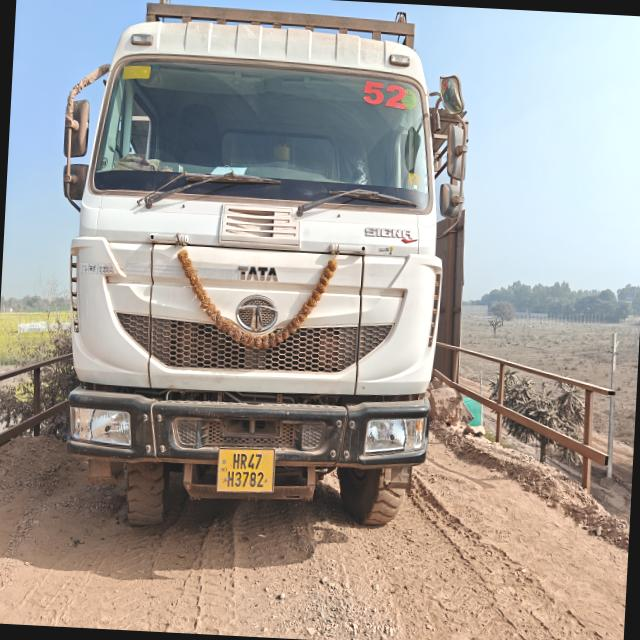license_plate: (217, 448, 275, 493)
